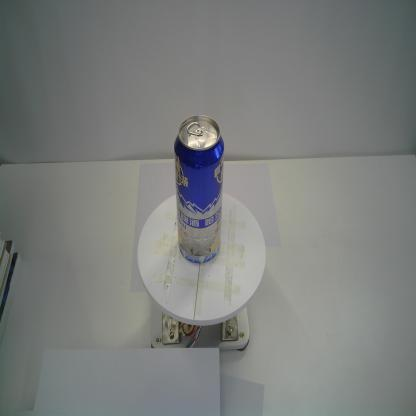Alcohol: (174, 113, 226, 265)
